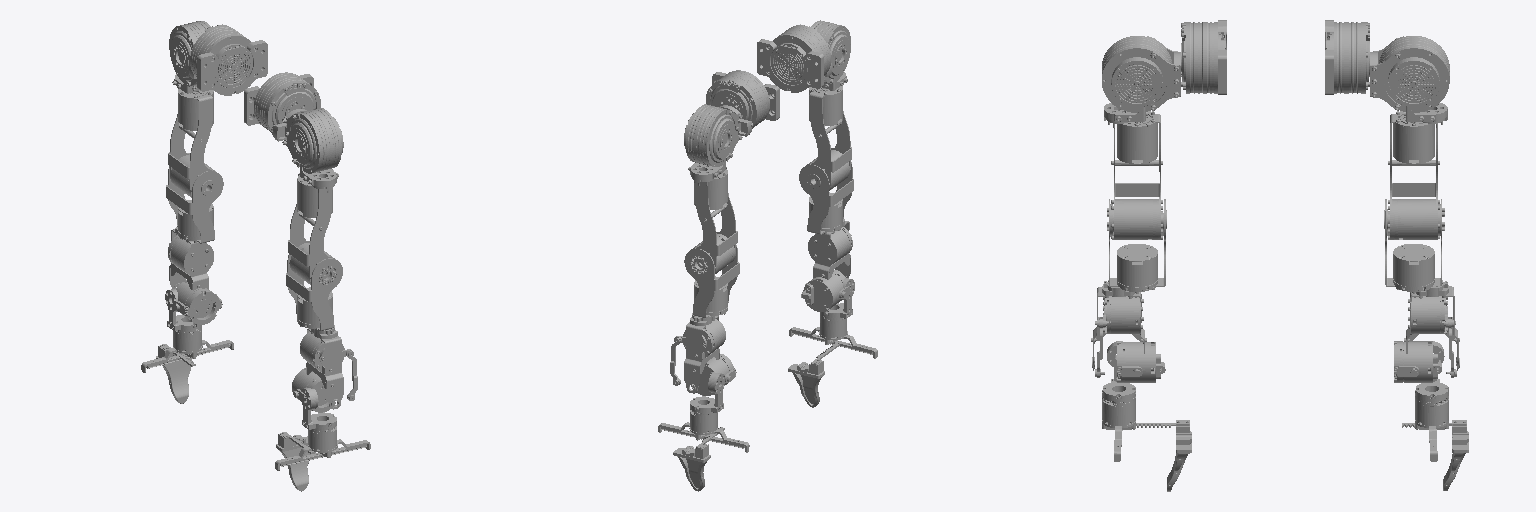
--- What the picture shows (computed from the rendered views, not written in the file) ---
3 views of the same robot in one strip: view 1: azimuth 30°, elevation 25°; view 2: azimuth 150°, elevation 25°; view 3: azimuth 270°, elevation 25° (orthographic).
Model openarm_v1_bimanual with 40 links and 39 joints (14 revolute, 4 prismatic, 21 fixed), rooted at world, posed all joints at 0.
Visible links, largest first — view 1: left_oparm_link1, left_oparm_link4_1, right_oparm_link2_1, right_oparm_link4_1, right_oparm_link1, right_oparm_link6_1, right_oparm_link5_1, left_oparm_link5_1, right_oparm_link8_1, left_oparm_link8_1, left_oparm_link6_1, left_oparm_link2_1 (+5 smaller); view 2: right_oparm_link1, right_oparm_link4_1, left_oparm_link2_1, left_oparm_link4_1, left_oparm_link1, left_oparm_link6_1, left_oparm_link5_1, right_oparm_link5_1, left_oparm_link8_1, right_oparm_link6_1, right_oparm_link8_1, right_oparm_link2_1 (+5 smaller); view 3: left_oparm_link2_1, right_oparm_link2_1, left_oparm_link4_1, right_oparm_link4_1, right_oparm_link1, left_oparm_link1, left_oparm_link6_1, left_oparm_link5_1, right_oparm_link5_1, right_oparm_link6_1, right_oparm_link8_1, left_oparm_link8_1 (+6 smaller).
Link boxes in pixels (x1,y1,x2,y2): left_oparm_link1: [190, 24, 267, 95]; left_oparm_link4_1: [168, 89, 214, 197]; right_oparm_link2_1: [272, 108, 343, 173]; right_oparm_link4_1: [288, 173, 334, 284]; right_oparm_link1: [244, 72, 320, 132]; right_oparm_link6_1: [300, 325, 357, 409]; right_oparm_link5_1: [286, 241, 342, 330]; left_oparm_link5_1: [166, 153, 223, 243]; right_oparm_link8_1: [275, 388, 370, 470]; left_oparm_link8_1: [141, 288, 233, 372]; left_oparm_link6_1: [168, 227, 213, 290]; left_oparm_link2_1: [169, 21, 210, 86]; right_oparm_link1: [757, 24, 830, 92]; right_oparm_link4_1: [806, 86, 851, 190]; left_oparm_link2_1: [684, 104, 751, 166]; left_oparm_link4_1: [691, 167, 737, 273]; left_oparm_link1: [706, 70, 779, 128]; left_oparm_link6_1: [670, 313, 725, 393]; left_oparm_link5_1: [684, 232, 739, 318]; right_oparm_link5_1: [799, 148, 853, 234]; left_oparm_link8_1: [658, 372, 749, 452]; right_oparm_link6_1: [808, 219, 852, 279]; right_oparm_link8_1: [789, 278, 877, 358]; right_oparm_link2_1: [811, 20, 850, 83]; left_oparm_link2_1: [1368, 36, 1449, 112]; right_oparm_link2_1: [1102, 36, 1182, 112]; left_oparm_link4_1: [1388, 111, 1439, 239]; right_oparm_link4_1: [1111, 111, 1163, 239]; right_oparm_link1: [1181, 20, 1226, 94]; left_oparm_link1: [1325, 20, 1369, 94]; left_oparm_link6_1: [1404, 280, 1459, 377]; left_oparm_link5_1: [1384, 199, 1444, 293]; right_oparm_link5_1: [1107, 199, 1166, 293]; right_oparm_link6_1: [1091, 280, 1146, 377]; right_oparm_link8_1: [1102, 341, 1135, 461]; left_oparm_link8_1: [1415, 341, 1448, 461].
Size in the robot's own frame: 0.1667 by 0.5193 by 0.7051 metres.
Meshes: 12 distinct files referenced, 18 mesh visuals loaded (9 binary STL); not drawn: 4 (reference not matched to a file when rendering).

URDF robot description (openarm_v1_bimanual):
<?xml version="1.0" ?>
<!-- =================================================================================== -->
<!-- |    This document was autogenerated by xacro from openarm_v1_bimanual.urdf.xacro | -->
<!-- |    EDITING THIS FILE BY HAND IS NOT RECOMMENDED                                 | -->
<!-- =================================================================================== -->
<!--
　Copyright 2025 Reazon Holdings, Inc.

　Licensed under the Apache License, Version 2.0 (the "License");
　you may not use this file except in compliance with the License.
　You may obtain a copy of the License at

　    http://www.apache.org/licenses/LICENSE-2.0

　Unless required by applicable law or agreed to in writing, software
　distributed under the License is distributed on an "AS IS" BASIS,
　WITHOUT WARRANTIES OR CONDITIONS OF ANY KIND, either express or implied.
　See the License for the specific language governing permissions and
　limitations under the License.
-->
<robot name="openarm_v1_bimanual">
  <!-- <xacro:include filename="$(find openarm_v1_description)/urdf/materials.xacro" /> -->
  <!-- <xacro:include filename="$(find openarm_v1_description)/urdf/openarm_v1.trans" />
<xacro:include filename="$(find openarm_v1_description)/urdf/openarm_v1.gazebo" />
 -->
  <material name="silver">
    <color rgba="0.700 0.700 0.700 1.000"/>
  </material>
  <material name="dark_gray">
    <color rgba="0.2 0.2 0.2 1.0"/>
  </material>
  <link name="pedestal_v1_link">
    <visual>
      <origin rpy="0 0 0" xyz="0 0 0"/>
      <geometry>
        <mesh filename="package://openarm_v1_bimanual_description/meshes/pedestal_v1_link.stl" scale="0.001 0.001 0.001"/>
      </geometry>
      <material name="dark_gray"/>
    </visual>
    <collision>
      <origin rpy="0 0 0" xyz="0 0 0"/>
      <geometry>
        <mesh filename="package://openarm_v1_bimanual_description/meshes/pedestal_v1_link.stl" scale="0.001 0.001 0.001"/>
      </geometry>
    </collision>
    <!-- <inertial>
      <origin rpy="0 0 0" xyz="-0.019032202985360066 0.0002140713683395199 0.3878296171161416"/>
      <mass value="13.892221893766356"/>
      <inertia ixx="1.653382" ixy="5e-06" ixz="-0.085852" iyy="1.653298" iyz="0.000118" izz="0.051334"/>
    </inertial> -->
  </link>
  <material name="aluminum">
    <color rgba="0.5 0.5 0.5 1"/>
  </material>
  <material name="plastic">
    <color rgba="0.1 0.1 0.1 1"/>
  </material>
  <!-- camera body, with origin at bottom screw mount -->
  <joint name="camera_joint" type="fixed">
    <origin rpy="0.0 1.3962634015954636 -1.5707963267948966" xyz="0.0 -0.025 0.995216"/>
    <parent link="pedestal_v1_link"/>
    <child link="camera_bottom_screw_frame"/>
  </joint>
  <link name="camera_bottom_screw_frame"/>
  <joint name="camera_link_joint" type="fixed">
    <origin rpy="0 0 0" xyz="0.010600000000000002 0.0175 0.0125"/>
    <parent link="camera_bottom_screw_frame"/>
    <child link="camera_link"/>
  </joint>
  <link name="camera_link">
    <visual>
      <!-- the mesh origin is at front plate in between the two infrared camera axes -->
      <origin rpy="1.5707963267948966 0 1.5707963267948966" xyz="0.0043 -0.0175 0"/>
      <geometry>
        <mesh filename="package://realsense2_description/meshes/d435.dae"/>
      </geometry>
    </visual>
    <collision>
      <origin rpy="0 0 0" xyz="0 -0.0175 0"/>
      <geometry>
        <box size="0.02505 0.09 0.025"/>
      </geometry>
    </collision>
    <inertial>
      <!-- The following are not reliable values, and should not be used for modeling -->
      <mass value="0.072"/>
      <origin xyz="0 0 0"/>
      <inertia ixx="0.003881243" ixy="0.0" ixz="0.0" iyy="0.000498940" iyz="0.0" izz="0.003879257"/>
    </inertial>
  </link>
  <!-- camera depth joints and links -->
  <joint name="camera_depth_joint" type="fixed">
    <origin rpy="0 0 0" xyz="0 0 0"/>
    <parent link="camera_link"/>
    <child link="camera_depth_frame"/>
  </joint>
  <link name="camera_depth_frame"/>
  <joint name="camera_depth_optical_joint" type="fixed">
    <origin rpy="-1.5707963267948966 0 -1.5707963267948966" xyz="0 0 0"/>
    <parent link="camera_depth_frame"/>
    <child link="camera_depth_optical_frame"/>
  </joint>
  <link name="camera_depth_optical_frame"/>
  <!-- camera left IR joints and links -->
  <joint name="camera_infra1_joint" type="fixed">
    <origin rpy="0 0 0" xyz="0 0.0 0"/>
    <parent link="camera_link"/>
    <child link="camera_infra1_frame"/>
  </joint>
  <link name="camera_infra1_frame"/>
  <joint name="camera_infra1_optical_joint" type="fixed">
    <origin rpy="-1.5707963267948966 0 -1.5707963267948966" xyz="0 0 0"/>
    <parent link="camera_infra1_frame"/>
    <child link="camera_infra1_optical_frame"/>
  </joint>
  <link name="camera_infra1_optical_frame"/>
  <!-- camera right IR joints and links -->
  <joint name="camera_infra2_joint" type="fixed">
    <origin rpy="0 0 0" xyz="0 -0.05 0"/>
    <parent link="camera_link"/>
    <child link="camera_infra2_frame"/>
  </joint>
  <link name="camera_infra2_frame"/>
  <joint name="camera_infra2_optical_joint" type="fixed">
    <origin rpy="-1.5707963267948966 0 -1.5707963267948966" xyz="0 0 0"/>
    <parent link="camera_infra2_frame"/>
    <child link="camera_infra2_optical_frame"/>
  </joint>
  <link name="camera_infra2_optical_frame"/>
  <!-- camera color joints and links -->
  <joint name="camera_color_joint" type="fixed">
    <origin rpy="0 0 0" xyz="0 0.015 0"/>
    <parent link="camera_link"/>
    <child link="camera_color_frame"/>
  </joint>
  <link name="camera_color_frame"/>
  <joint name="camera_color_optical_joint" type="fixed">
    <origin rpy="-1.5707963267948966 0 -1.5707963267948966" xyz="0 0 0"/>
    <parent link="camera_color_frame"/>
    <child link="camera_color_optical_frame"/>
  </joint>
  <link name="camera_color_optical_frame"/>
  <link name="camera_accel_frame"/>
  <link name="camera_accel_optical_frame"/>
  <link name="camera_gyro_frame"/>
  <link name="camera_gyro_optical_frame"/>
  <joint name="camera_accel_joint" type="fixed">
    <origin rpy="0 0 0" xyz="-0.01174 -0.00552 0.0051"/>
    <parent link="camera_link"/>
    <child link="camera_accel_frame"/>
  </joint>
  <joint name="camera_accel_optical_joint" type="fixed">
    <origin rpy="-1.5707963267948966 0 -1.5707963267948966" xyz="0 0 0"/>
    <parent link="camera_accel_frame"/>
    <child link="camera_accel_optical_frame"/>
  </joint>
  <joint name="camera_gyro_joint" type="fixed">
    <origin rpy="0 0 0" xyz="-0.01174 -0.00552 0.0051"/>
    <parent link="camera_link"/>
    <child link="camera_gyro_frame"/>
  </joint>
  <joint name="camera_gyro_optical_joint" type="fixed">
    <origin rpy="-1.5707963267948966 0 -1.5707963267948966" xyz="0 0 0"/>
    <parent link="camera_gyro_frame"/>
    <child link="camera_gyro_optical_frame"/>
  </joint>
  <link name="world"/>
  <joint name="dummy_joint" type="fixed">
    <parent link="world"/>
    <child link="pedestal_v1_link"/>
    <origin rpy="0.0 0.0 0.0" xyz="0.0 0.0 0.0"/>
  </joint>
  <link name="right_dummy_link"/>
  <joint name="right_dummy_joint" type="fixed">
    <parent link="right_dummy_link"/>
    <child link="right_oparm_link1"/>
  </joint>
  <link name="right_oparm_link1">
    <inertial>
      <origin rpy="0 0 0" xyz="-0.0010128150688448064 0.00011921310475708836 -0.03180504460041544"/>
      <mass value="1.199854606490333"/>
      <inertia ixx="0.001184" ixy="-5e-06" ixz="-3.5e-05" iyy="0.00101" iyz="-8e-06" izz="0.001542"/>
    </inertial>
    <visual>
      <origin rpy="0 0 0" xyz="0 0 0"/>
      <geometry>
        <mesh filename="package://openarm_v1_description/meshes/base_link.stl" scale="0.001 0.001 0.001"/>
      </geometry>
      <material name="silver"/>
    </visual>
    <collision>
      <origin rpy="0 0 0" xyz="0 0 0"/>
      <geometry>
        <mesh filename="package://openarm_v1_description/meshes/base_link.stl" scale="0.001 0.001 0.001"/>
      </geometry>
    </collision>
  </link>
  <link name="right_oparm_link2_1">
    <inertial>
      <origin rpy="0 0 0" xyz="-0.0012074754655398907 3.2777381724620495e-05 0.05528470264561512"/>
      <mass value="1.1000847398831186"/>
      <inertia ixx="0.001407" ixy="-1e-06" ixz="-1.1e-05" iyy="0.001051" iyz="-0.0" izz="0.000834"/>
    </inertial>
    <visual>
      <origin rpy="0 0 0" xyz="6.4e-05 3.9e-05 7.4e-05"/>
      <geometry>
        <mesh filename="package://openarm_v1_description/meshes/oparm_link2_1.stl" scale="0.001 0.001 0.001"/>
      </geometry>
      <material name="silver"/>
    </visual>
    <collision>
      <origin rpy="0 0 0" xyz="6.4e-05 3.9e-05 7.4e-05"/>
      <geometry>
        <mesh filename="package://openarm_v1_description/meshes/oparm_link2_1.stl" scale="0.001 0.001 0.001"/>
      </geometry>
    </collision>
  </link>
  <link name="right_oparm_link3_1">
    <inertial>
      <origin rpy="0 0 0" xyz="0.01121664780902543 1.3328249549549094e-05 0.040881711980061415"/>
      <mass value="0.2517618223062059"/>
      <inertia ixx="0.000191" ixy="-0.0" ixz="-6.2e-05" iyy="0.000222" iyz="-0.0" izz="0.000115"/>
    </inertial>
    <visual>
      <origin rpy="0 0 0" xyz="0.030164 7.5e-05 -0.059926"/>
      <geometry>
        <mesh filename="package://openarm_v1_description/meshes/oparm_link3_1.stl" scale="0.001 0.001 0.001"/>
      </geometry>
      <material name="silver"/>
    </visual>
    <collision>
      <origin rpy="0 0 0" xyz="0.030164 7.5e-05 -0.059926"/>
      <geometry>
        <mesh filename="package://openarm_v1_description/meshes/oparm_link3_1.stl" scale="0.001 0.001 0.001"/>
      </geometry>
    </collision>
  </link>
  <link name="right_oparm_link4_1">
    <inertial>
      <origin rpy="0 0 0" xyz="-0.0007615058947238776 0.0008537439948917441 0.09243691252183486"/>
      <mass value="0.8795120731547696"/>
      <inertia ixx="0.003872" ixy="0.0" ixz="8e-06" iyy="0.003785" iyz="-4.3e-05" izz="0.000459"/>
    </inertial>
    <visual>
      <origin rpy="0 0 0" xyz="6.4e-05 3.9e-05 -0.126176"/>
      <geometry>
        <mesh filename="package://openarm_v1_description/meshes/oparm_link4_1.stl" scale="0.001 0.001 0.001"/>
      </geometry>
      <material name="silver"/>
    </visual>
    <collision>
      <origin rpy="0 0 0" xyz="6.4e-05 3.9e-05 -0.126176"/>
      <geometry>
        <mesh filename="package://openarm_v1_description/meshes/oparm_link4_1.stl" scale="0.001 0.001 0.001"/>
      </geometry>
    </collision>
  </link>
  <link name="right_oparm_link5_1">
    <inertial>
      <origin rpy="0 0 0" xyz="-0.0013357751355886956 -0.030369405447056 0.06320013521798368"/>
      <mass value="0.5098534566833373"/>
      <inertia ixx="0.000623" ixy="-1e-06" ixz="-1.9e-05" iyy="0.000511" iyz="3.8e-05" izz="0.000334"/>
    </inertial>
    <visual>
      <origin rpy="0 0 0" xyz="0.000103 -0.031461 -0.279926"/>
      <geometry>
        <mesh filename="package://openarm_v1_description/meshes/oparm_link5_1.stl" scale="0.001 0.001 0.001"/>
      </geometry>
      <material name="silver"/>
    </visual>
    <collision>
      <origin rpy="0 0 0" xyz="0.000103 -0.031461 -0.279926"/>
      <geometry>
        <mesh filename="package://openarm_v1_description/meshes/oparm_link5_1.stl" scale="0.001 0.001 0.001"/>
      </geometry>
    </collision>
  </link>
  <link name="right_oparm_link6_1">
    <inertial>
      <origin rpy="0 0 0" xyz="-0.0021201729515073105 -0.00062709480879269 0.04528877679278359"/>
      <mass value="0.4900322801663895"/>
      <inertia ixx="0.000352" ixy="1.2e-05" ixz="-1.4e-05" iyy="0.000379" iyz="1.5e-05" izz="0.000234"/>
    </inertial>
    <visual>
      <origin rpy="0 0 0" xyz="6.4e-05 3.9e-05 -0.375426"/>
      <geometry>
        <mesh filename="package://openarm_v1_description/meshes/oparm_link6_1.stl" scale="0.001 0.001  0.001"/>
      </geometry>
      <material name="silver"/>
    </visual>
    <collision>
      <origin rpy="0 0 0" xyz="6.4e-05 3.9e-05 -0.375426"/>
      <geometry>
        <mesh filename="package://openarm_v1_description/meshes/oparm_link6_1.stl" scale="0.001 0.001  0.001"/>
      </geometry>
    </collision>
  </link>
  <link name="right_oparm_link7_1">
    <inertial>
      <origin rpy="0 0 0" xyz="-0.03713023470335729 0.00035983890089288836 -8.108153514163607e-05"/>
      <mass value="0.3593684115765714"/>
      <inertia ixx="0.000146" ixy="4e-06" ixz="-0.0" iyy="0.000159" iyz="1e-06" izz="0.000162"/>
    </inertial>
    <visual>
      <origin rpy="0 0 0" xyz="-0.037436 -7e-06 -0.495926"/>
      <geometry>
        <mesh filename="package://openarm_v1_description/meshes/oparm_link7_1.stl" scale="0.001 0.001 0.001"/>
      </geometry>
      <material name="silver"/>
    </visual>
    <collision>
      <origin rpy="0 0 0" xyz="-0.037436 -7e-06 -0.495926"/>
      <geometry>
        <mesh filename="package://openarm_v1_description/meshes/oparm_link7_1.stl" scale="0.001 0.001 0.001"/>
      </geometry>
    </collision>
  </link>
  <link name="right_oparm_link8_1">
    <inertial>
      <origin rpy="0 0 0" xyz="-4.621208532881523e-05 -0.014878395014230248 0.1108487501579852"/>
      <mass value="1.0519344947868502"/>
      <inertia ixx="0.000541" ixy="0.0" ixz="-1e-06" iyy="0.000436" iyz="6.2e-05" izz="0.000282"/>
    </inertial>
    <visual>
      <origin rpy="0 0 0" xyz="8.9e-05 -0.020461 -0.495926"/>
      <geometry>
        <mesh filename="package://openarm_v1_description/meshes/oparm_link8_1.stl" scale="0.001 0.001 0.001"/>
      </geometry>
      <material name="silver"/>
    </visual>
    <collision>
      <origin rpy="0 0 0" xyz="8.9e-05 -0.020461 -0.495926"/>
      <geometry>
        <mesh filename="package://openarm_v1_description/meshes/oparm_link8_1.stl" scale="0.001 0.001 0.001"/>
      </geometry>
    </collision>
  </link>
  <link name="right_gripper_center"/>
  <link name="right_oparm_link_gripper1_1">
    <inertial>
      <origin rpy="0 0 0" xyz="-0.46648908387963345 0.5103204691805678 0.4070117217536271"/>
      <mass value="0.2697206045576214"/>
      <inertia ixx="0.000188" ixy="1e-06" ixz="2.2e-05" iyy="0.000207" iyz="2e-05" izz="9.1e-05"/>
    </inertial>
    <visual>
      <origin rpy="0 0 0" xyz="-0.469674 0.446194 -0.22199"/>
      <geometry>
        <mesh filename="package://openarm_v1_description/meshes/oparm_link_gripper1_1.stl" scale="0.001 0.001 0.001"/>
      </geometry>
      <material name="silver"/>
    </visual>
    <collision>
      <origin rpy="0 0 0" xyz="-0.469674 0.446194 -0.22199"/>
      <geometry>
        <mesh filename="package://openarm_v1_description/meshes/oparm_link_gripper1_1.stl" scale="0.001 0.001 0.001"/>
      </geometry>
    </collision>
  </link>
  <link name="right_oparm_link_gripper2_1">
    <inertial>
      <origin rpy="0 0 0" xyz="-0.4790039954788485 0.3826938133089908 0.4069900240158981"/>
      <mass value="0.26972369116983347"/>
      <inertia ixx="0.00019" ixy="1e-06" ixz="-2.4e-05" iyy="0.000211" iyz="-2e-05" izz="9.3e-05"/>
    </inertial>
    <visual>
      <origin rpy="0 0 0" xyz="-0.475748 0.440106 -0.222001"/>
      <geometry>
        <mesh filename="package://openarm_v1_description/meshes/oparm_link_gripper2_1.stl" scale="0.001 0.001 0.001"/>
      </geometry>
      <material name="silver"/>
    </visual>
    <collision>
      <origin rpy="0 0 0" xyz="-0.475748 0.440106 -0.222001"/>
      <geometry>
        <mesh filename="package://openarm_v1_description/meshes/oparm_link_gripper2_1.stl" scale="0.001 0.001 0.001"/>
      </geometry>
    </collision>
  </link>
  <joint name="right_oparm_joint1" type="revolute">
    <origin rpy="0 0 0" xyz="-6.4e-05 -3.9e-05 -7.4e-05"/>
    <parent link="right_oparm_link1"/>
    <child link="right_oparm_link2_1"/>
    <axis xyz="0.0 0.0 1.0"/>
    <limit effort="100" lower="-1.396263" upper="3.490659" velocity="100"/>
  </joint>
  <joint name="right_oparm_joint2" type="revolute">
    <origin rpy="1.5707963267948966 0 0" xyz="-0.0301 -3.6e-05 0.06"/>
    <parent link="right_oparm_link2_1"/>
    <child link="right_oparm_link3_1"/>
    <axis xyz="-1.0 0.0 0.0"/>
    <limit effort="100" lower="-0.17453267320510335" upper="3.3161253267948965" velocity="100"/>
  </joint>
  <joint name="right_oparm_joint3" type="revolute">
    <origin rpy="0 0 0" xyz="0.0301 3.6e-05 0.06625"/>
    <parent link="right_oparm_link3_1"/>
    <child link="right_oparm_link4_1"/>
    <axis xyz="-0.0 0.0 1.0"/>
    <limit effort="100" lower="-1.570796" upper="1.570796" velocity="100"/>
  </joint>
  <joint name="right_oparm_joint4" type="revolute">
    <origin rpy="0 0 0" xyz="-3.9e-05 0.0315 0.15375"/>
    <parent link="right_oparm_link4_1"/>
    <child link="right_oparm_link5_1"/>
    <axis xyz="0.0 1.0 0.0"/>
    <limit effort="100" lower="0.0" upper="2.443461" velocity="100"/>
  </joint>
  <joint name="right_oparm_joint5" type="revolute">
    <origin rpy="0 0 0" xyz="3.9e-05 -0.0315 0.0955"/>
    <parent link="right_oparm_link5_1"/>
    <child link="right_oparm_link6_1"/>
    <axis xyz="0.0 -0.0 1.0"/>
    <limit effort="100" lower="-1.570796" upper="1.570796" velocity="100"/>
  </joint>
  <joint name="right_oparm_joint6" type="revolute">
    <origin rpy="0 0 0" xyz="0.0375 4.6e-05 0.1205"/>
    <parent link="right_oparm_link6_1"/>
    <child link="right_oparm_link7_1"/>
    <axis xyz="1.0 0.0 0.0"/>
    <limit effort="100" lower="-0.785398" upper="0.785398" velocity="100"/>
  </joint>
  <joint name="right_oparm_joint7" type="revolute">
    <origin rpy="0 0 0" xyz="-0.037525 0.020454 0.0"/>
    <parent link="right_oparm_link7_1"/>
    <child link="right_oparm_link8_1"/>
    <axis xyz="0.0 1.0 0.0"/>
    <limit effort="100" lower="-1.570796" upper="1.570796" velocity="100"/>
  </joint>
  <joint name="right_oparm_joint_gripper1" type="prismatic">
    <origin rpy="0 0 0" xyz="0.469763 -0.466655 -0.273936"/>
    <parent link="right_oparm_link8_1"/>
    <child link="right_oparm_link_gripper1_1"/>
    <axis xyz="0.0 -1.0 -0.0"/>
    <limit effort="100" lower="0.0" upper="0.043" velocity="100"/>
  </joint>
  <joint name="right_oparm_joint_gripper2" type="prismatic">
    <origin rpy="0 0 0" xyz="0.475837 -0.460567 -0.273925"/>
    <parent link="right_oparm_link8_1"/>
    <child link="right_oparm_link_gripper2_1"/>
    <axis xyz="0.0 1.0 0.0"/>
    <limit effort="100" lower="0.0" upper="0.043" velocity="100"/>
    <mimic joint="right_oparm_joint_gripper1" multiplier="1.0" offset="0.0"/>
  </joint>
  <joint name="right_virtual_gripper_center" type="fixed">
    <parent link="right_oparm_link8_1"/>
    <child link="right_gripper_center"/>
    <origin rpy="0 0 0" xyz="0.0 0.00 0.13"/>
  </joint>
  <joint name="right_fixed1" type="fixed">
    <parent link="pedestal_v1_link"/>
    <child link="right_dummy_link"/>
    <origin rpy="1.5707963267948966 0.0 0.0" xyz="0.0 -0.13 0.85"/>
  </joint>
  <link name="left_dummy_link"/>
  <joint name="left_dummy_joint" type="fixed">
    <parent link="left_dummy_link"/>
    <child link="left_oparm_link1"/>
  </joint>
  <link name="left_oparm_link1">
    <inertial>
      <origin rpy="0 0 0" xyz="-0.0010128150688448064 0.00011921310475708836 -0.03180504460041544"/>
      <mass value="1.199854606490333"/>
      <inertia ixx="0.001184" ixy="-5e-06" ixz="-3.5e-05" iyy="0.00101" iyz="-8e-06" izz="0.001542"/>
    </inertial>
    <visual>
      <origin rpy="0 0 0" xyz="0 0 0"/>
      <geometry>
        <mesh filename="package://openarm_v1_description/meshes/base_link.stl" scale="0.001 -0.001 0.001"/>
      </geometry>
      <material name="silver"/>
    </visual>
    <collision>
      <origin rpy="0 0 0" xyz="0 0 0"/>
      <geometry>
        <mesh filename="package://openarm_v1_description/meshes/base_link.stl" scale="0.001 -0.001 0.001"/>
      </geometry>
    </collision>
  </link>
  <link name="left_oparm_link2_1">
    <inertial>
      <origin rpy="0 0 0" xyz="-0.0012074754655398907 3.2777381724620495e-05 0.05528470264561512"/>
      <mass value="1.1000847398831186"/>
      <inertia ixx="0.001407" ixy="-1e-06" ixz="-1.1e-05" iyy="0.001051" iyz="-0.0" izz="0.000834"/>
    </inertial>
    <visual>
      <origin rpy="0 0 0" xyz="6.4e-05 3.9e-05 7.4e-05"/>
      <geometry>
        <mesh filename="package://openarm_v1_description/meshes/oparm_link2_1.stl" scale="0.001 -0.001 0.001"/>
      </geometry>
      <material name="silver"/>
    </visual>
    <collision>
      <origin rpy="0 0 0" xyz="6.4e-05 3.9e-05 7.4e-05"/>
      <geometry>
        <mesh filename="package://openarm_v1_description/meshes/oparm_link2_1.stl" scale="0.001 -0.001 0.001"/>
      </geometry>
    </collision>
  </link>
  <link name="left_oparm_link3_1">
    <inertial>
      <origin rpy="0 0 0" xyz="0.01121664780902543 1.3328249549549094e-05 0.040881711980061415"/>
      <mass value="0.2517618223062059"/>
      <inertia ixx="0.000191" ixy="-0.0" ixz="-6.2e-05" iyy="0.000222" iyz="-0.0" izz="0.000115"/>
    </inertial>
    <visual>
      <origin rpy="0 0 0" xyz="0.030164 7.5e-05 -0.059926"/>
      <geometry>
        <mesh filename="package://openarm_v1_description/meshes/oparm_link3_1.stl" scale="0.001 -0.001 0.001"/>
      </geometry>
      <material name="silver"/>
    </visual>
    <collision>
      <origin rpy="0 0 0" xyz="0.030164 7.5e-05 -0.059926"/>
      <geometry>
        <mesh filename="package://openarm_v1_description/meshes/oparm_link3_1.stl" scale="0.001 -0.001 0.001"/>
      </geometry>
    </collision>
  </link>
  <link name="left_oparm_link4_1">
    <inertial>
      <origin rpy="0 0 0" xyz="-0.0007615058947238776 0.0008537439948917441 0.09243691252183486"/>
      <mass value="0.8795120731547696"/>
      <inertia ixx="0.003872" ixy="0.0" ixz="8e-06" iyy="0.003785" iyz="-4.3e-05" izz="0.000459"/>
    </inertial>
    <visual>
      <origin rpy="0 0 0" xyz="6.4e-05 3.9e-05 -0.126176"/>
      <geometry>
        <mesh filename="package://openarm_v1_description/meshes/oparm_link4_1.stl" scale="0.001 -0.001 0.001"/>
      </geometry>
      <material name="silver"/>
    </visual>
    <collision>
      <origin rpy="0 0 0" xyz="6.4e-05 3.9e-05 -0.126176"/>
      <geometry>
        <mesh filename="package://openarm_v1_description/meshes/oparm_link4_1.stl" scale="0.001 -0.001 0.001"/>
      </geometry>
    </collision>
  </link>
  <link name="left_oparm_link5_1">
    <inertial>
      <origin rpy="0 0 0" xyz="-0.0013357751355886956 -0.030369405447056 0.06320013521798368"/>
      <mass value="0.5098534566833373"/>
      <inertia ixx="0.000623" ixy="-1e-06" ixz="-1.9e-05" iyy="0.000511" iyz="3.8e-05" izz="0.000334"/>
    </inertial>
    <visual>
      <origin rpy="0 0 0" xyz="0.000103 -0.031461 -0.279926"/>
      <geometry>
        <mesh filename="package://openarm_v1_description/meshes/oparm_link5_1.stl" scale="0.001 -0.001 0.001"/>
      </geometry>
      <material name="silver"/>
    </visual>
    <collision>
      <origin rpy="0 0 0" xyz="0.000103 -0.031461 -0.279926"/>
      <geometry>
        <mesh filename="package://openarm_v1_description/meshes/oparm_link5_1.stl" scale="0.001 -0.001 0.001"/>
      </geometry>
    </collision>
  </link>
  <link name="left_oparm_link6_1">
    <inertial>
      <origin rpy="0 0 0" xyz="-0.0021201729515073105 -0.00062709480879269 0.04528877679278359"/>
      <mass value="0.4900322801663895"/>
      <inertia ixx="0.000352" ixy="1.2e-05" ixz="-1.4e-05" iyy="0.000379" iyz="1.5e-05" izz="0.000234"/>
    </inertial>
    <visual>
      <origin rpy="0 0 0" xyz="6.4e-05 3.9e-05 -0.375426"/>
      <geometry>
        <mesh filename="package://openarm_v1_description/meshes/oparm_link6_1.stl" scale="0.001 -0.001  0.001"/>
      </geometry>
      <material name="silver"/>
    </visual>
    <collision>
      <origin rpy="0 0 0" xyz="6.4e-05 3.9e-05 -0.375426"/>
      <geometry>
        <mesh filename="package://openarm_v1_description/meshes/oparm_link6_1.stl" scale="0.001 -0.001  0.001"/>
      </geometry>
    </collision>
  </link>
  <link name="left_oparm_link7_1">
    <inertial>
      <origin rpy="0 0 0" xyz="-0.03713023470335729 0.00035983890089288836 -8.108153514163607e-05"/>
      <mass value="0.3593684115765714"/>
      <inertia ixx="0.000146" ixy="4e-06" ixz="-0.0" iyy="0.000159" iyz="1e-06" izz="0.000162"/>
    </inertial>
    <visual>
      <origin rpy="0 0 0" xyz="-0.037436 -7e-06 -0.495926"/>
      <geometry>
        <mesh filename="package://openarm_v1_description/meshes/oparm_link7_1.stl" scale="0.001 0.001 0.001"/>
      </geometry>
      <material name="silver"/>
    </visual>
    <collision>
      <origin rpy="0 0 0" xyz="-0.037436 -7e-06 -0.495926"/>
      <geometry>
        <mesh filename="package://openarm_v1_description/meshes/oparm_link7_1.stl" scale="0.001 0.001 0.001"/>
      </geometry>
    </collision>
  </link>
  <link name="left_oparm_link8_1">
    <inertial>
      <origin rpy="0 0 0" xyz="-4.621208532881523e-05 -0.014878395014230248 0.1108487501579852"/>
      <mass value="1.0519344947868502"/>
      <inertia ixx="0.000541" ixy="0.0" ixz="-1e-06" iyy="0.000436" iyz="6.2e-05" izz="0.000282"/>
    </inertial>
    <visual>
      <origin rpy="0 0 0" xyz="8.9e-05 -0.020461 -0.495926"/>
      <geometry>
        <mesh filename="package://openarm_v1_description/meshes/oparm_link8_1.stl" scale="0.001 -0.001 0.001"/>
      </geometry>
      <material name="silver"/>
    </visual>
    <collision>
      <origin rpy="0 0 0" xyz="8.9e-05 -0.020461 -0.495926"/>
      <geometry>
        <mesh filename="package://openarm_v1_description/meshes/oparm_link8_1.stl" scale="0.001 -0.001 0.001"/>
      </geometry>
    </collision>
  </link>
  <link name="left_gripper_center"/>
  <link name="left_oparm_link_gripper1_1">
    <inertial>
      <origin rpy="0 0 0" xyz="-0.46648908387963345 0.5103204691805678 0.4070117217536271"/>
      <mass value="0.2697206045576214"/>
      <inertia ixx="0.000188" ixy="1e-06" ixz="2.2e-05" iyy="0.000207" iyz="2e-05" izz="9.1e-05"/>
    </inertial>
    <visual>
      <origin rpy="0 0 0" xyz="-0.469674 0.446194 -0.22199"/>
      <geometry>
        <mesh filename="package://openarm_v1_description/meshes/oparm_link_gripper1_1.stl" scale="0.001 0.001 0.001"/>
      </geometry>
      <material name="silver"/>
    </visual>
    <collision>
      <origin rpy="0 0 0" xyz="-0.469674 0.446194 -0.22199"/>
      <geometry>
        <mesh filename="package://openarm_v1_description/meshes/oparm_link_gripper1_1.stl" scale="0.001 0.001 0.001"/>
      </geometry>
    </collision>
  </link>
  <link name="left_oparm_link_gripper2_1">
    <inertial>
      <origin rpy="0 0 0" xyz="-0.4790039954788485 0.3826938133089908 0.4069900240158981"/>
      <mass value="0.26972369116983347"/>
      <inertia ixx="0.00019" ixy="1e-06" ixz="-2.4e-05" iyy="0.000211" iyz="-2e-05" izz="9.3e-05"/>
    </inertial>
    <visual>
      <origin rpy="0 0 0" xyz="-0.475748 0.440106 -0.222001"/>
      <geometry>
        <mesh filename="package://openarm_v1_description/meshes/oparm_link_gripper2_1.stl" scale="0.001 0.001 0.001"/>
      </geometry>
      <material name="silver"/>
    </visual>
    <collision>
      <origin rpy="0 0 0" xyz="-0.475748 0.440106 -0.222001"/>
      <geometry>
        <mesh filename="package://openarm_v1_description/meshes/oparm_link_gripper2_1.stl" scale="0.001 0.001 0.001"/>
      </geometry>
    </collision>
  </link>
  <joint name="left_oparm_joint1" type="revolute">
    <origin rpy="0 0 0" xyz="-6.4e-05 -3.9e-05 -7.4e-05"/>
    <parent link="left_oparm_link1"/>
    <child link="left_oparm_link2_1"/>
    <axis xyz="0.0 0.0 1.0"/>
    <limit effort="100" lower="-3.490659" upper="1.396263" velocity="100"/>
  </joint>
  <joint name="left_oparm_joint2" type="revolute">
    <origin rpy="-1.5707963267948966 0 0" xyz="-0.0301 -3.6e-05 0.06"/>
    <parent link="left_oparm_link2_1"/>
    <child link="left_oparm_link3_1"/>
    <axis xyz="-1.0 0.0 0.0"/>
    <limit effort="100" lower="-3.3161253267948965" upper="0.17453267320510335" velocity="100"/>
  </joint>
  <joint name="left_oparm_joint3" type="revolute">
    <origin rpy="0 0 0" xyz="0.0301 3.6e-05 0.06625"/>
    <parent link="left_oparm_link3_1"/>
    <child link="left_oparm_link4_1"/>
    <axis xyz="-0.0 0.0 1.0"/>
    <limit effort="100" lower="-1.570796" upper="1.570796" velocity="100"/>
  </joint>
  <joint name="left_oparm_joint4" type="revolute">
    <origin rpy="0 0 0" xyz="-3.9e-05 0.0315 0.15375"/>
    <parent link="left_oparm_link4_1"/>
    <child link="left_oparm_link5_1"/>
    <axis xyz="0.0 1.0 0.0"/>
    <limit effort="100" lower="0.0" upper="2.443461" velocity="100"/>
  </joint>
  <joint name="left_oparm_joint5" type="revolute">
    <origin rpy="0 0 0" xyz="3.9e-05 -0.0315 0.0955"/>
    <parent link="left_oparm_link5_1"/>
    <child link="left_oparm_link6_1"/>
    <axis xyz="0.0 -0.0 1.0"/>
    <limit effort="100" lower="-1.570796" upper="1.570796" velocity="100"/>
  </joint>
  <joint name="left_oparm_joint6" type="revolute">
    <origin rpy="0 0 0" xyz="0.0375 4.6e-05 0.1205"/>
    <parent link="left_oparm_link6_1"/>
    <child link="left_oparm_link7_1"/>
    <axis xyz="1.0 0.0 0.0"/>
    <limit effort="100" lower="-0.785398" upper="0.785398" velocity="100"/>
  </joint>
  <joint name="left_oparm_joint7" type="revolute">
    <origin rpy="0 0 0" xyz="-0.037525 0.020454 0.0"/>
    <parent link="left_oparm_link7_1"/>
    <child link="left_oparm_link8_1"/>
    <axis xyz="0.0 -1.0 0.0"/>
    <limit effort="100" lower="-1.570796" upper="1.570796" velocity="100"/>
  </joint>
  <joint name="left_oparm_joint_gripper1" type="prismatic">
    <origin rpy="0 0 0" xyz="0.469763 -0.466655 -0.273936"/>
    <parent link="left_oparm_link8_1"/>
    <child link="left_oparm_link_gripper1_1"/>
    <axis xyz="0.0 -1.0 -0.0"/>
    <limit effort="100" lower="0.0" upper="0.043" velocity="100"/>
  </joint>
  <joint name="left_oparm_joint_gripper2" type="prismatic">
    <origin rpy="0 0 0" xyz="0.475837 -0.460567 -0.273925"/>
    <parent link="left_oparm_link8_1"/>
    <child link="left_oparm_link_gripper2_1"/>
    <axis xyz="0.0 1.0 0.0"/>
    <limit effort="100" lower="0.0" upper="0.043" velocity="100"/>
    <mimic joint="left_oparm_joint_gripper1" multiplier="1.0" offset="0.0"/>
  </joint>
  <joint name="left_virtual_gripper_center" type="fixed">
    <parent link="left_oparm_link8_1"/>
    <child link="left_gripper_center"/>
    <origin rpy="0 0 0" xyz="0.0 0.00 0.13"/>
  </joint>
  <joint name="left_fixed1" type="fixed">
    <parent link="pedestal_v1_link"/>
    <child link="left_dummy_link"/>
    <origin rpy="-1.5707963267948966 0.0 0.0" xyz="0.0 0.13 0.85"/>
  </joint>
  <ros2_control name="right_RightOpenArm_v1_HW" type="system">
    <hardware>
      <plugin>openarm_hardware/OpenArm_v1_HW</plugin>
      <param name="prefix">right_</param>
      <param name="can_device">can0</param>
    </hardware>
    <joint name="right_oparm_joint1">
      <command_interface name="position"/>
      <command_interface name="velocity"/>
      <command_interface name="effort"/>
      <state_interface name="position"/>
      <state_interface name="velocity"/>
      <state_interface name="effort"/>
    </joint>
    <joint name="right_oparm_joint2">
      <command_interface name="position"/>
      <command_interface name="velocity"/>
      <command_interface name="effort"/>
      <state_interface name="position"/>
      <state_interface name="velocity"/>
      <state_interface name="effort"/>
    </joint>
    <joint name="right_oparm_joint3">
      <command_interface name="position"/>
      <command_interface name="velocity"/>
      <command_interface name="effort"/>
      <state_interface name="position"/>
      <state_interface name="velocity"/>
      <state_interface name="effort"/>
    </joint>
    <joint name="right_oparm_joint4">
      <command_interface name="position"/>
      <command_interface name="velocity"/>
      <command_interface name="effort"/>
      <state_interface name="position"/>
      <state_interface name="velocity"/>
      <state_interface name="effort"/>
    </joint>
    <joint name="right_oparm_joint5">
      <command_interface name="position"/>
      <command_interface name="velocity"/>
      <command_interface name="effort"/>
      <state_interface name="position"/>
      <state_interface name="velocity"/>
      <state_interface name="effort"/>
    </joint>
    <joint name="right_oparm_joint6">
      <command_interface name="position"/>
      <command_interface name="velocity"/>
      <command_interface name="effort"/>
      <state_interface name="position"/>
      <state_interface name="velocity"/>
      <state_interface name="effort"/>
    </joint>
    <joint name="right_oparm_joint7">
      <command_interface name="position"/>
      <command_interface name="velocity"/>
      <command_interface name="effort"/>
      <state_interface name="position"/>
      <state_interface name="velocity"/>
      <state_interface name="effort"/>
    </joint>
    <joint name="right_oparm_joint_gripper2">
      <command_interface name="position"/>
      <state_interface name="position"/>
      <state_interface name="velocity"/>
    </joint>
  </ros2_control>
  <ros2_control name="left_LeftOpenArm_v1_HW" type="system">
    <hardware>
      <plugin>openarm_hardware/OpenArm_v1_HW</plugin>
      <param name="prefix">left_</param>
      <param name="can_device">can1</param>
    </hardware>
    <joint name="left_oparm_joint1">
      <command_interface name="position"/>
      <command_interface name="velocity"/>
      <command_interface name="effort"/>
      <state_interface name="position"/>
      <state_interface name="velocity"/>
      <state_interface name="effort"/>
    </joint>
    <joint name="left_oparm_joint2">
      <command_interface name="position"/>
      <command_interface name="velocity"/>
      <command_interface name="effort"/>
      <state_interface name="position"/>
      <state_interface name="velocity"/>
      <state_interface name="effort"/>
    </joint>
    <joint name="left_oparm_joint3">
      <command_interface name="position"/>
      <command_interface name="velocity"/>
      <command_interface name="effort"/>
      <state_interface name="position"/>
      <state_interface name="velocity"/>
      <state_interface name="effort"/>
    </joint>
    <joint name="left_oparm_joint4">
      <command_interface name="position"/>
      <command_interface name="velocity"/>
      <command_interface name="effort"/>
      <state_interface name="position"/>
      <state_interface name="velocity"/>
      <state_interface name="effort"/>
    </joint>
    <joint name="left_oparm_joint5">
      <command_interface name="position"/>
      <command_interface name="velocity"/>
      <command_interface name="effort"/>
      <state_interface name="position"/>
      <state_interface name="velocity"/>
      <state_interface name="effort"/>
    </joint>
    <joint name="left_oparm_joint6">
      <command_interface name="position"/>
      <command_interface name="velocity"/>
      <command_interface name="effort"/>
      <state_interface name="position"/>
      <state_interface name="velocity"/>
      <state_interface name="effort"/>
    </joint>
    <joint name="left_oparm_joint7">
      <command_interface name="position"/>
      <command_interface name="velocity"/>
      <command_interface name="effort"/>
      <state_interface name="position"/>
      <state_interface name="velocity"/>
      <state_interface name="effort"/>
    </joint>
    <joint name="left_oparm_joint_gripper2">
      <command_interface name="position"/>
      <state_interface name="position"/>
      <state_interface name="velocity"/>
    </joint>
  </ros2_control>
</robot>
